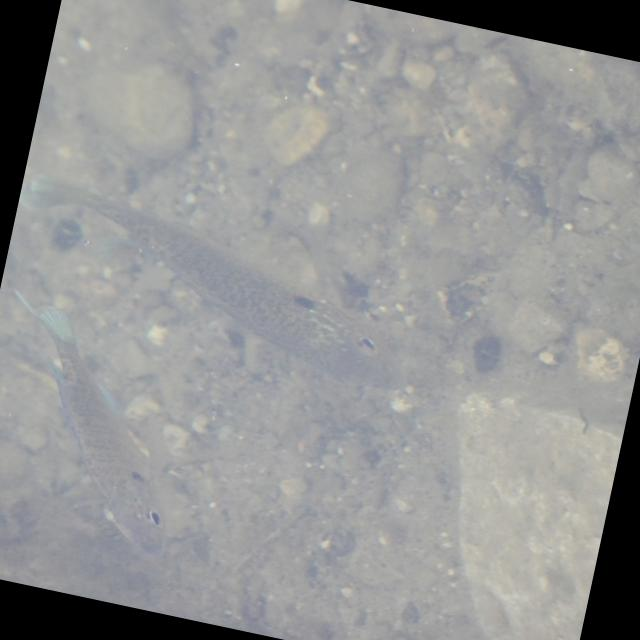Gunes Levregi: (5, 170, 430, 394), (0, 283, 246, 566)
